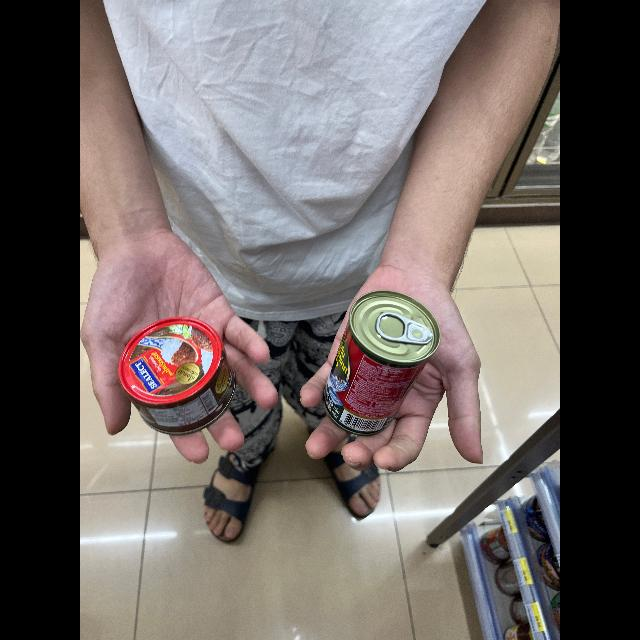can: (311, 281, 445, 439), (106, 308, 247, 432)
